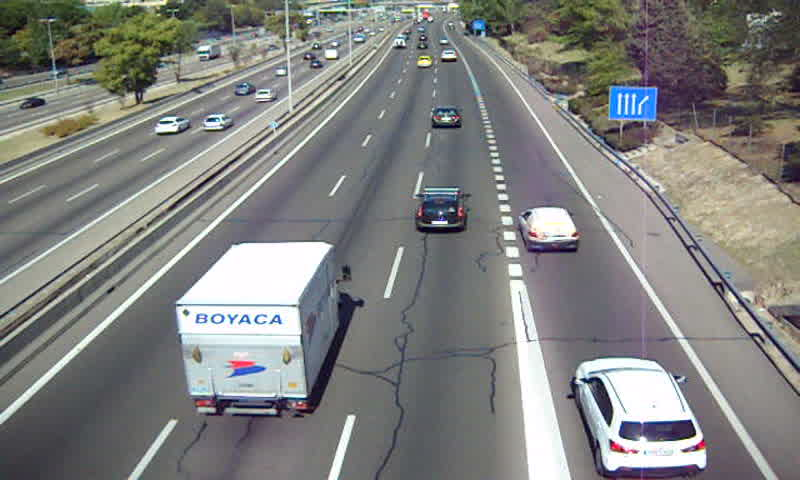car: (573, 356, 707, 474), (519, 206, 579, 250), (414, 186, 468, 230), (429, 106, 461, 128), (416, 54, 432, 69), (440, 49, 458, 62)
small-truck: (177, 241, 343, 417)
